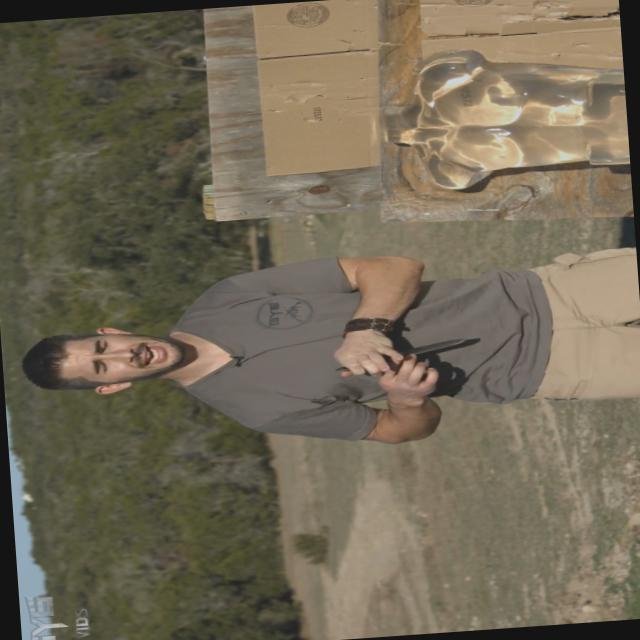knife: (324, 332, 486, 378)
